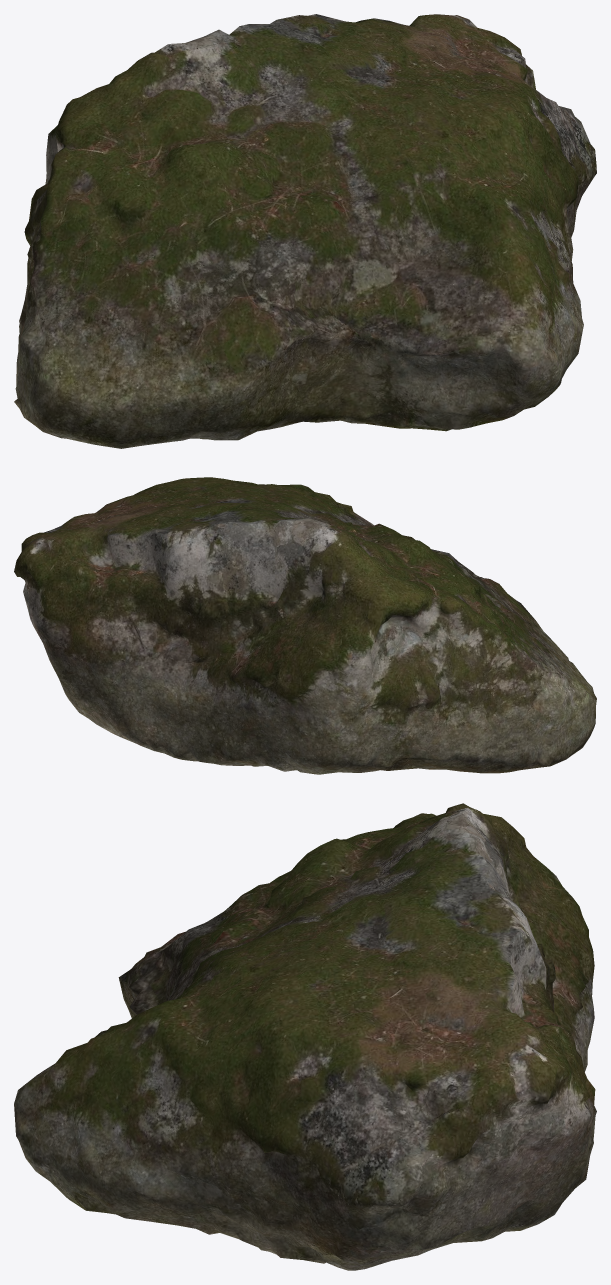
File: rock_small.glb
3 renders of one model, top to bottom at view 1: azimuth 30°, elevation 25°; view 2: azimuth 150°, elevation 25°; view 3: azimuth 270°, elevation 25°, orthographic. The views are drawn at different scales.
Parts seen in each view (by area): view 1: Merged; view 2: Merged; view 3: Merged.
Boxes of the visible parts, x1=… form: Merged: x1=14, y1=14, x2=596, y2=448; Merged: x1=14, y1=477, x2=596, y2=774; Merged: x1=14, y1=803, x2=596, y2=1270.
Size of the model in its own units: 1.17 by 0.5557 by 0.898.
1 material, 1 textured.
